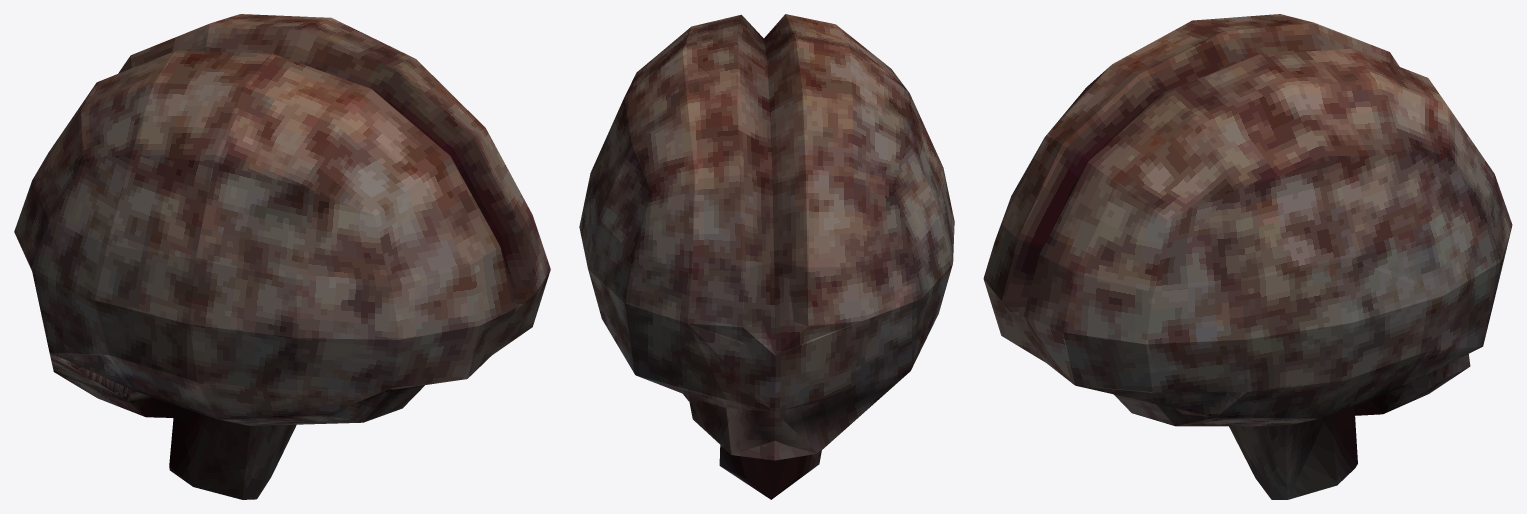
The model's file is item_quest_hlal_brain.glb.
The picture shows the model from 3 angles, left to right: view 1: azimuth 30°, elevation 25°; view 2: azimuth 150°, elevation 25°; view 3: azimuth 270°, elevation 25°; orthographic projection. The views are drawn at different scales.
Visible parts, largest first — view 1: Brain; view 2: Brain; view 3: Brain.
Part boxes in pixels (x1,y1,x2,y2): Brain: (14, 14, 550, 499); Brain: (579, 14, 954, 499); Brain: (983, 14, 1512, 499).
Size of the model in its own units: 0.3019 by 0.3251 by 0.3353.
Materials: 1 (1 with a texture image).
